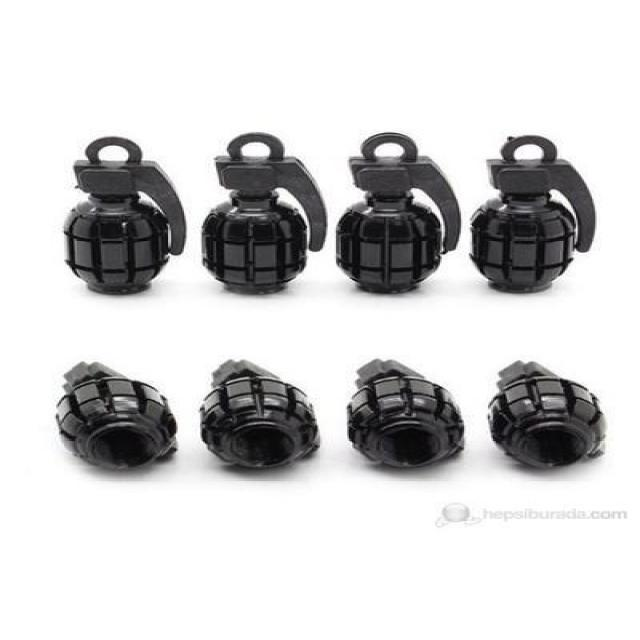Grenade: (198, 130, 325, 296), (466, 133, 596, 294), (332, 130, 460, 293), (61, 134, 188, 294), (51, 358, 179, 472), (195, 358, 322, 470), (344, 356, 466, 469), (484, 358, 606, 470)
